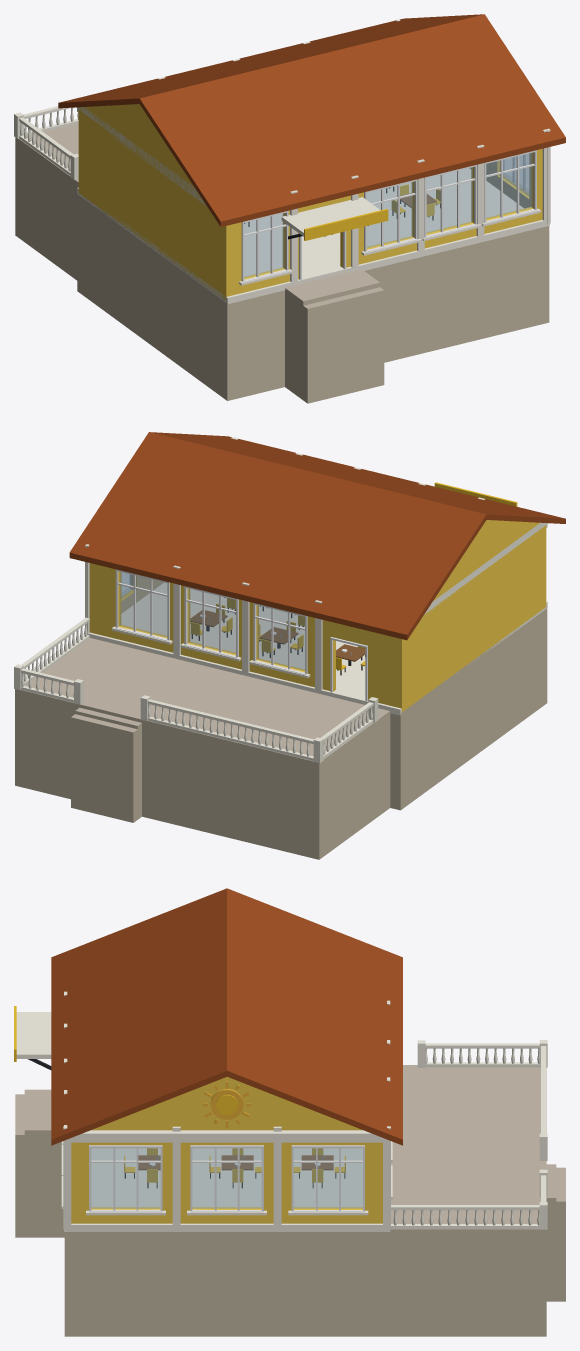
Rendered from SM_Ra_Cafeteria.fbx.
The picture shows the model from 3 angles, top to bottom: view 1: azimuth 30°, elevation 25°; view 2: azimuth 150°, elevation 25°; view 3: azimuth 270°, elevation 25°; orthographic projection. The views are drawn at different scales.
Visible parts, largest first — view 1: SM_Ra_Cafeteria; view 2: SM_Ra_Cafeteria; view 3: SM_Ra_Cafeteria.
Boxes of the visible parts, bbox=[...] form: SM_Ra_Cafeteria: bbox=[14, 14, 565, 403]; SM_Ra_Cafeteria: bbox=[14, 432, 565, 859]; SM_Ra_Cafeteria: bbox=[14, 888, 565, 1336].
Size of the model in its own units: 16.2 by 11.25 by 20.72.
